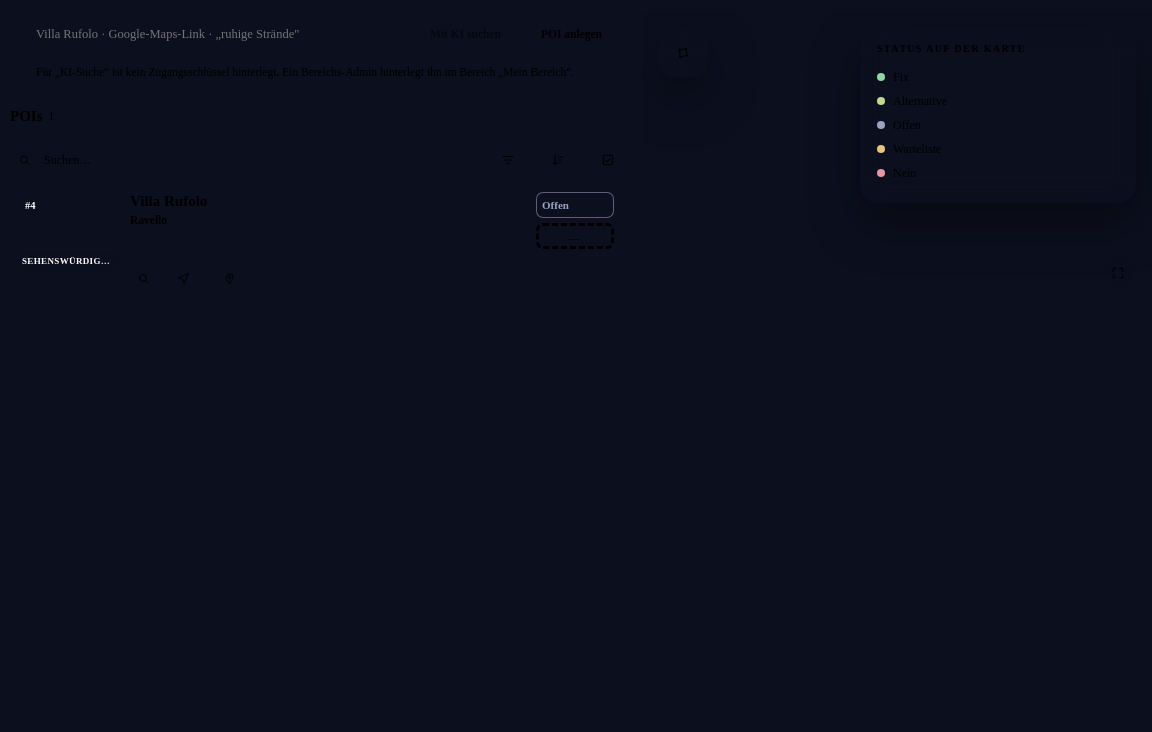
Test case: PoisView — POI ändern (req-035) › zeigt die Nummer, bietet sie aber nicht zum Ändern an (req-013)
Click the button "Villa Rufolo Ravello": (169, 201) [130,192,526,260]
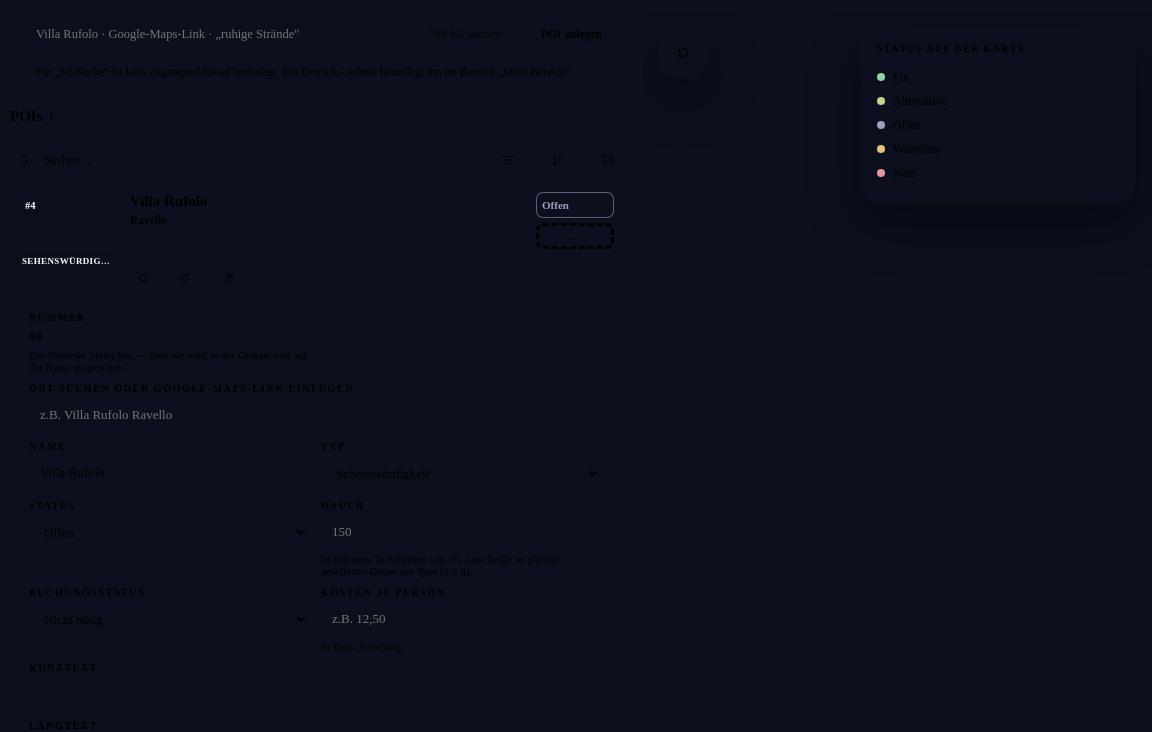
Now the text with test id "poi-form-number" reads "#4", box [29,328,42,343]
